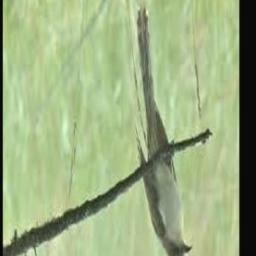Cuckoo: (133, 4, 191, 256)
